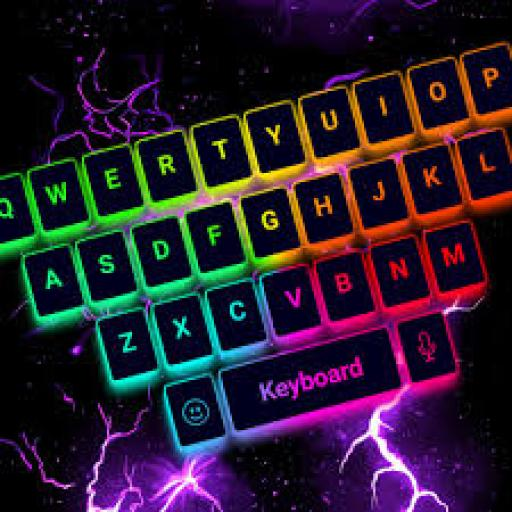keyboard: (4, 165, 512, 388)
